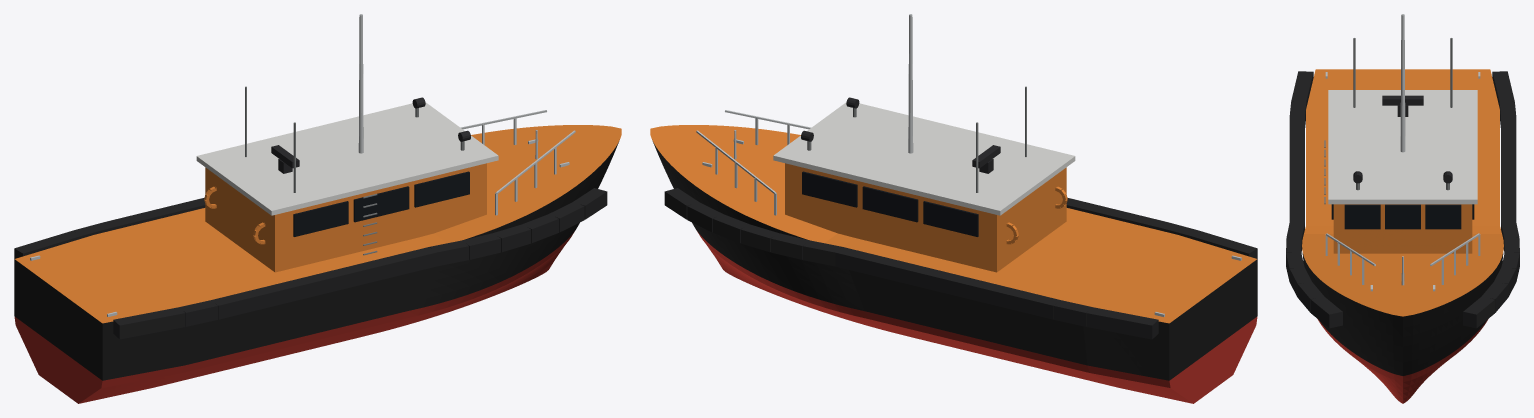
File: pilot18.glb
The picture shows the model from 3 angles, left to right: view 1: azimuth 30°, elevation 25°; view 2: azimuth 150°, elevation 25°; view 3: azimuth 270°, elevation 25°; orthographic projection.
Parts seen in each view (by area): view 1: pilot18; view 2: pilot18; view 3: pilot18.
Part boxes in pixels (bbox=[...]): pilot18: bbox=[14, 14, 621, 403]; pilot18: bbox=[650, 14, 1257, 403]; pilot18: bbox=[1286, 14, 1519, 403].
Size of the model in its own units: 18.6 by 9.5 by 6.75.
